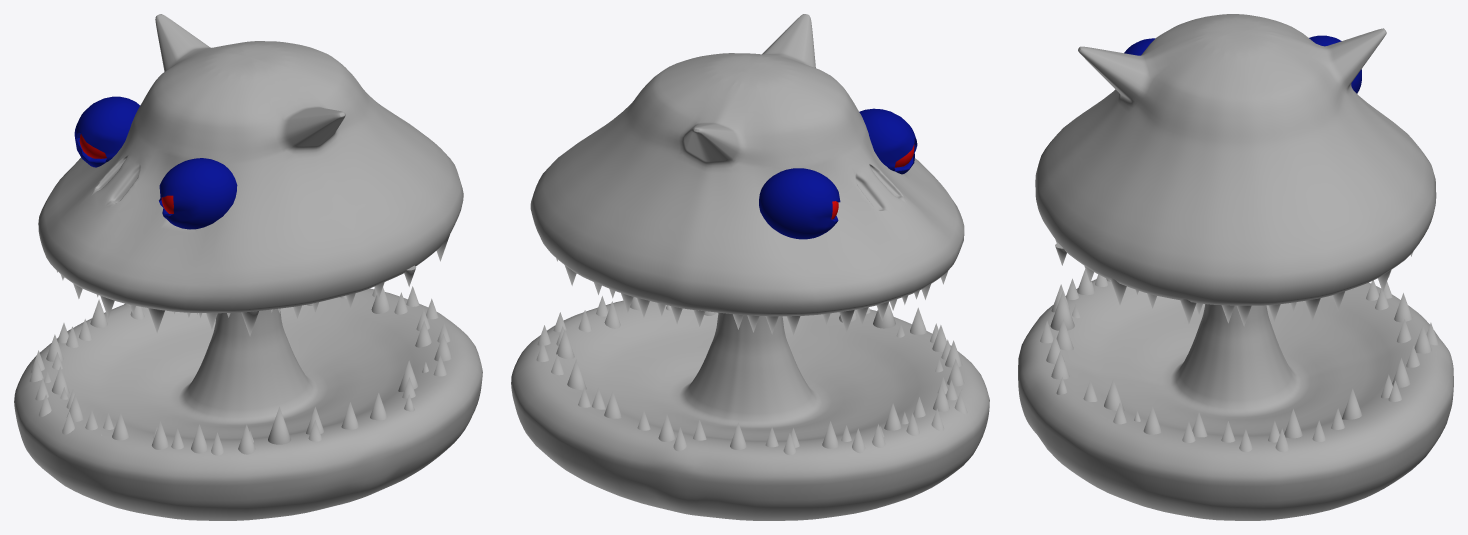
The model's file is MonsterPrototype.fbx.
3 views of the same model, side by side, from view 1: azimuth 30°, elevation 25°; view 2: azimuth 150°, elevation 25°; view 3: azimuth 270°, elevation 25° (orthographic). The views are drawn at different scales.
Parts seen in each view (by area): view 1: Monster; view 2: Monster; view 3: Monster.
Boxes of the visible parts, <box> form: Monster: <box>14,14,482,520</box>; Monster: <box>511,14,989,520</box>; Monster: <box>1018,14,1453,520</box>.
Size of the model in its own units: 18.56 by 17.56 by 15.83.
